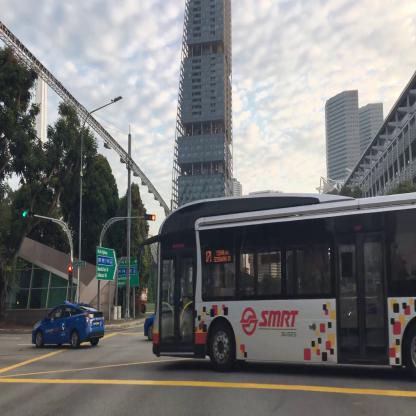red_traffic_light: (145, 214, 155, 220)
